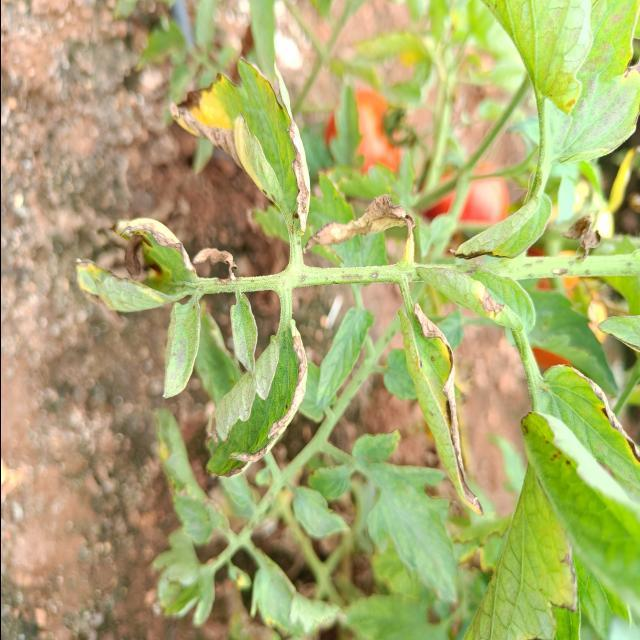Tomato mosaic virus leaf: (392, 301, 488, 517), (418, 256, 540, 334), (300, 185, 417, 259)
